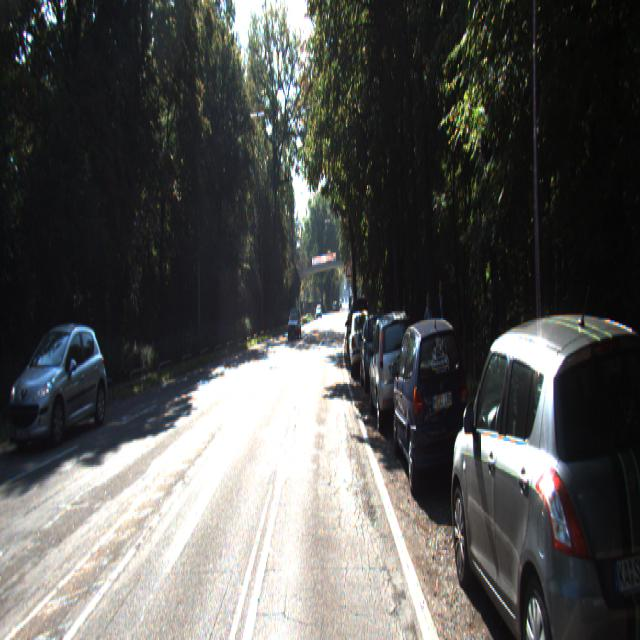Car: (446, 306, 640, 638), (391, 312, 474, 503), (5, 317, 110, 449), (368, 310, 422, 434), (359, 307, 394, 394), (348, 305, 374, 373), (288, 302, 300, 335)
